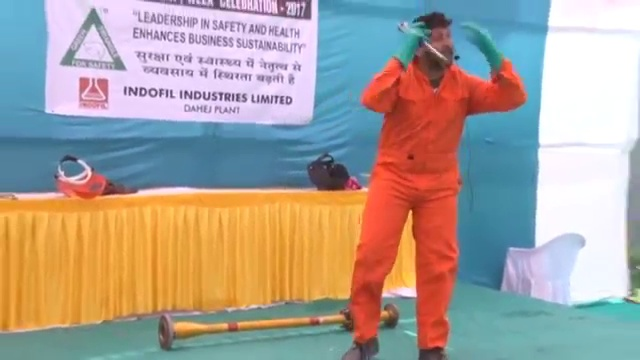helmet_off: (413, 13, 461, 70)
person: (342, 2, 527, 360)
